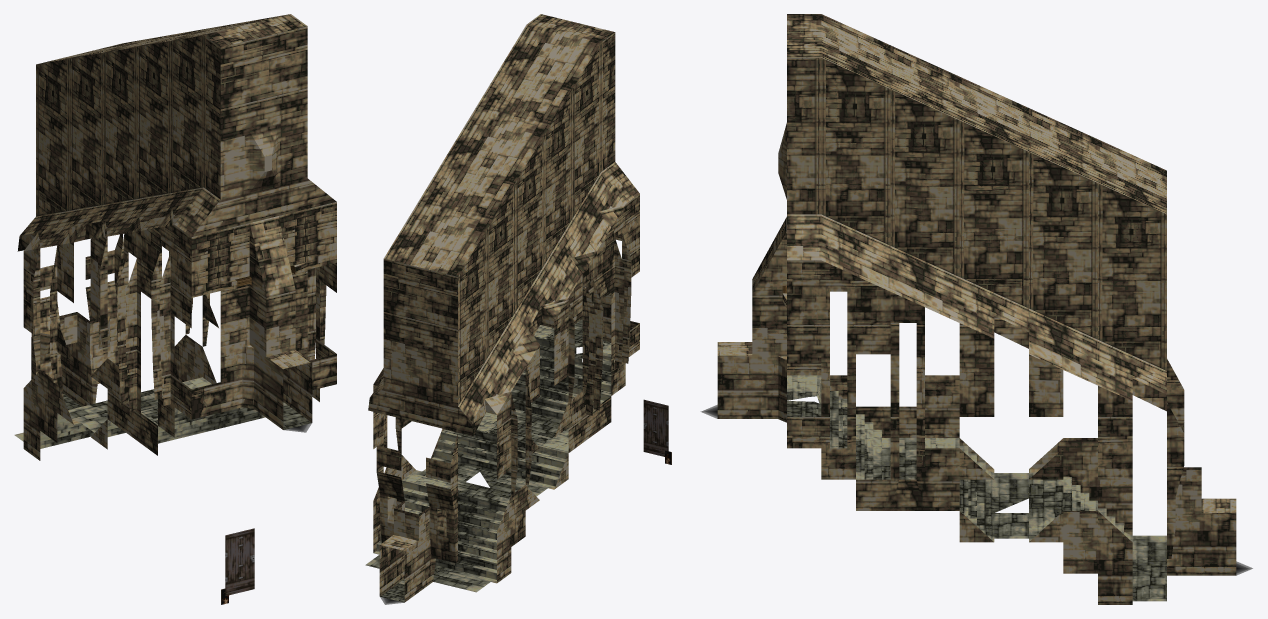
The model's file is MAP117.obj.
3 views of the same model, side by side, from view 1: azimuth 30°, elevation 25°; view 2: azimuth 150°, elevation 25°; view 3: azimuth 270°, elevation 25° (orthographic). The views are drawn at different scales.
Parts seen in each view (by area): view 1: mesh_23, mesh_22, mesh_19, mesh_21, mesh_15, mesh_13, mesh_17, mesh_24, mesh_5; view 2: mesh_22, mesh_23, mesh_13, mesh_21, mesh_15, mesh_17, mesh_4, mesh_19; view 3: mesh_23, mesh_17, mesh_22, mesh_13, mesh_19, mesh_21, mesh_15.
Part boxes in pixels (x1,y1,x2,y2): mesh_23: (36,35,220,216); mesh_22: (17,14,336,251); mesh_19: (191,201,336,429); mesh_21: (23,225,191,460); mesh_15: (31,234,122,406); mesh_13: (14,377,311,448); mesh_17: (169,251,336,401); mesh_24: (249,124,278,192); mesh_5: (225,528,254,595); mesh_22: (368,14,639,435); mesh_23: (458,32,615,405); mesh_13: (365,319,621,602); mesh_21: (497,194,639,582); mesh_15: (376,415,457,602); mesh_17: (373,385,444,552); mesh_4: (643,400,668,456); mesh_19: (540,233,639,341); mesh_23: (787,57,1166,370); mesh_17: (787,260,1132,604); mesh_22: (787,14,1166,411); mesh_13: (787,375,1166,601); mesh_19: (717,217,786,422); mesh_21: (787,354,1132,531); mesh_15: (1167,359,1236,575).
Bounding box in the file's own units: 73.6 × 221 × 205.
10 materials, 10 textured.
